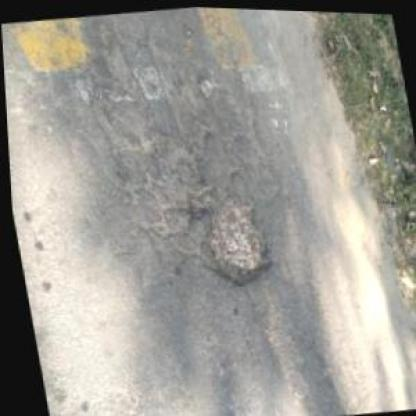pothole: (195, 187, 276, 293), (144, 124, 209, 224)
